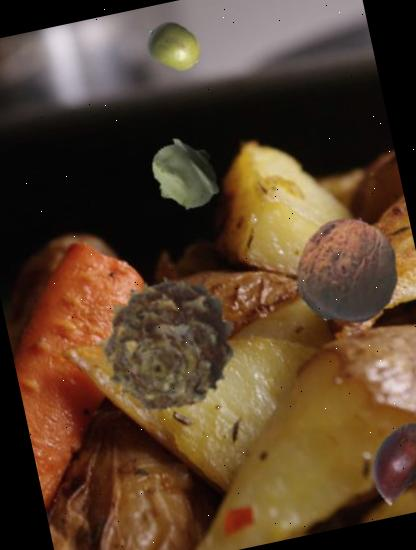Chestnut: (349, 408, 416, 510)
Kohlrabi: (140, 130, 230, 219)
Pineapple: (81, 258, 253, 430)
Pomelo: (141, 14, 207, 80)
Walnut: (284, 207, 414, 336)
